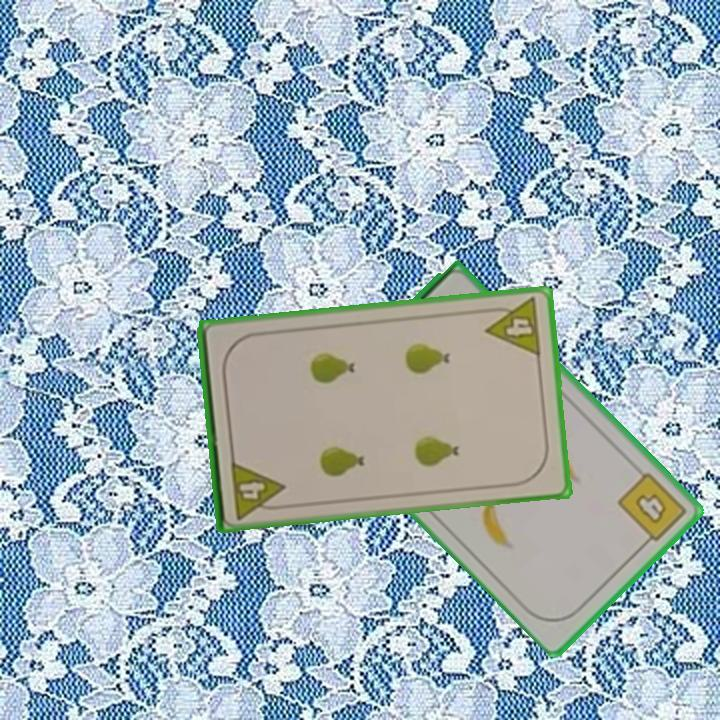4b: (614, 468, 690, 550)
4p: (480, 294, 544, 359), (227, 457, 288, 522)
